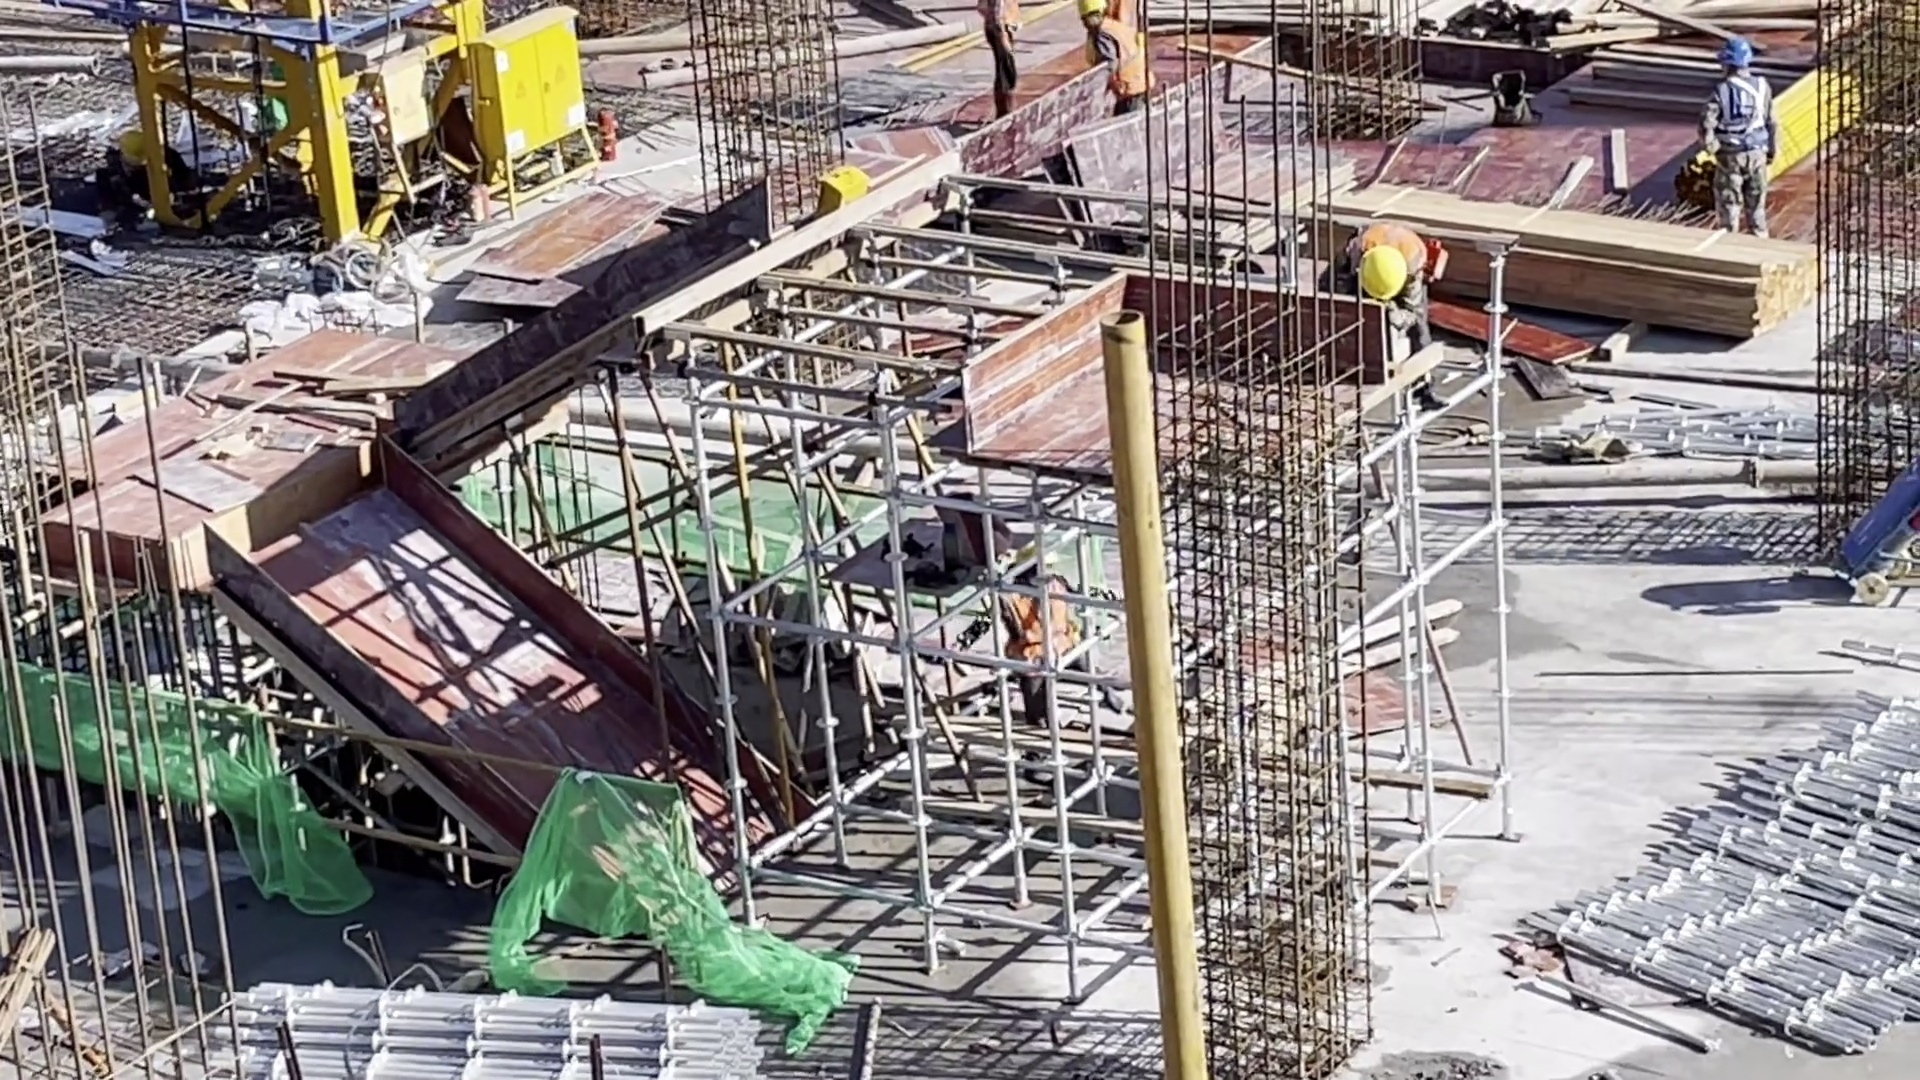helmet: (1359, 245, 1402, 306), (110, 131, 154, 169), (1721, 45, 1754, 66), (1078, 2, 1104, 19)
person: (1325, 213, 1456, 415), (989, 554, 1140, 723), (1703, 43, 1780, 231), (1078, 1, 1159, 116), (106, 131, 188, 219), (981, 1, 1030, 120)
vest: (1007, 580, 1078, 662), (1096, 24, 1157, 99), (1720, 73, 1770, 150), (1352, 214, 1424, 266), (984, 6, 1024, 53)
